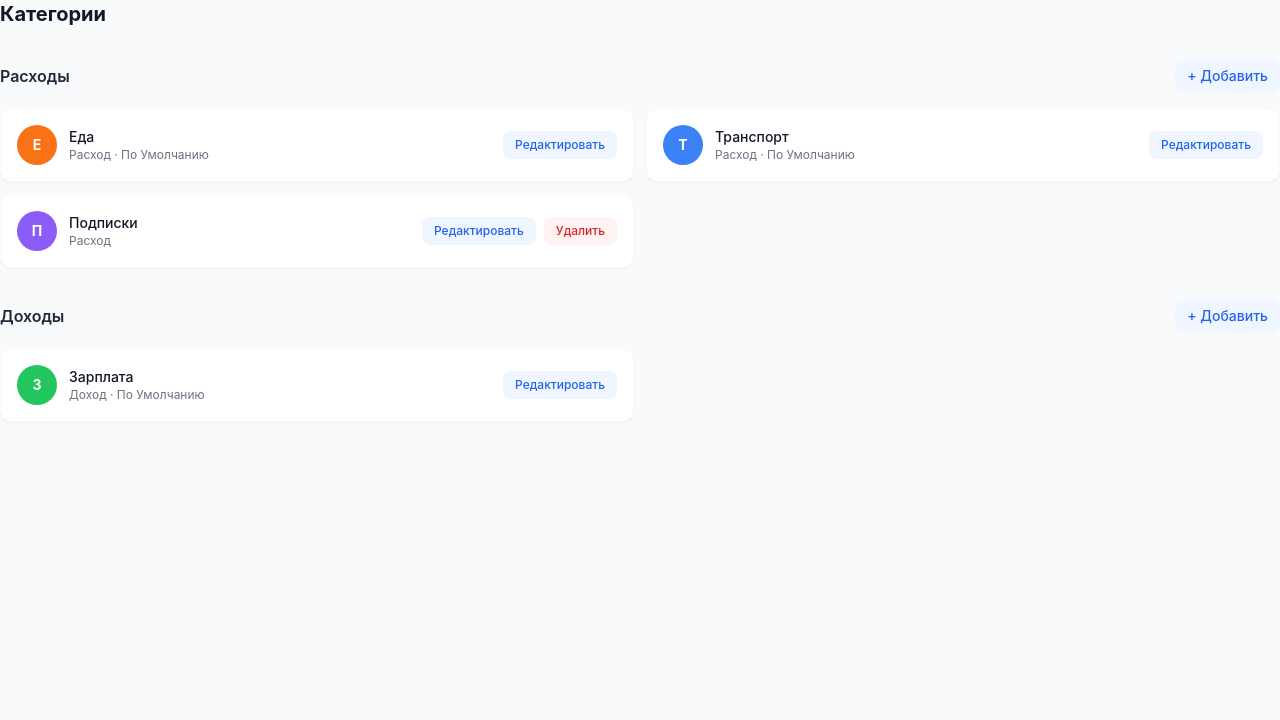
Scenario: CategoriesPage — удаление категории без транзакций › показывает диалог подтверждения при клике «Удалить»
Expected: the text "Подписки" is shown, [69,213,138,233]
Step 1. Click the button "Удалить" → point(580, 231), box [544,217,617,245]
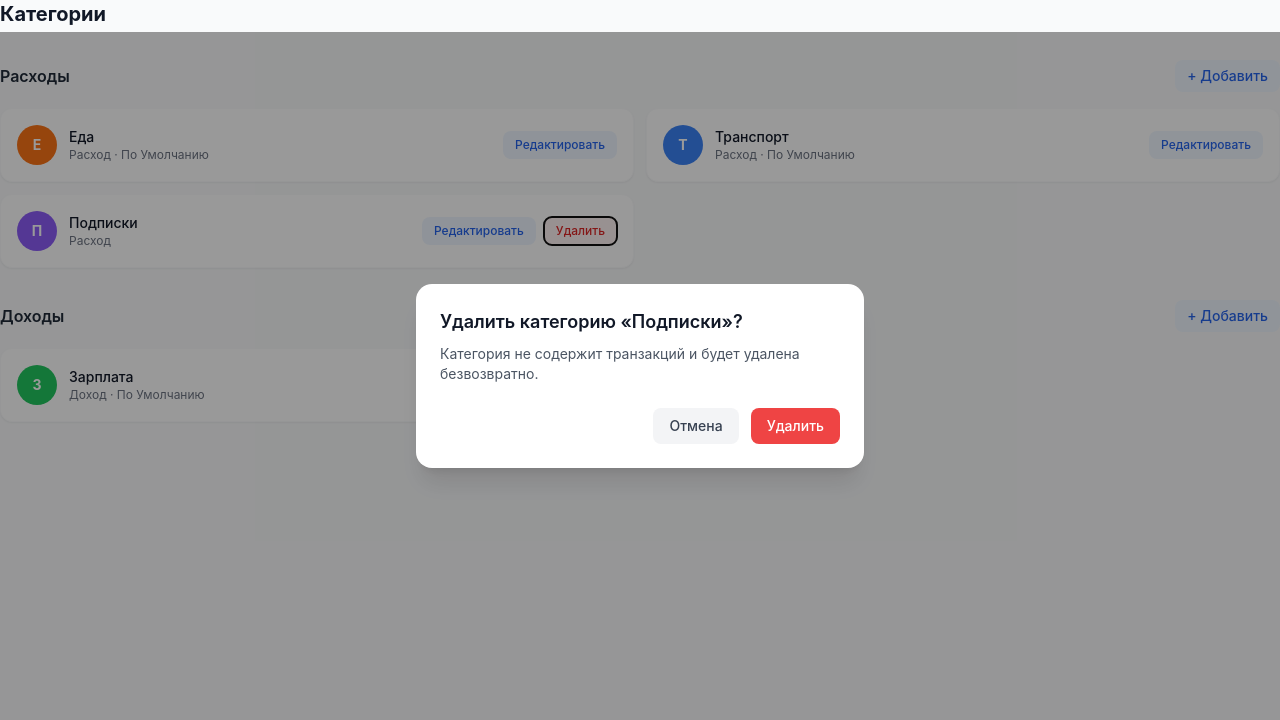
Now the heading "Удалить категорию «Подписки»?" is shown, box [440,311,743,332]
Now the text "не содержит транзакций" is shown, box [440,345,800,382]
